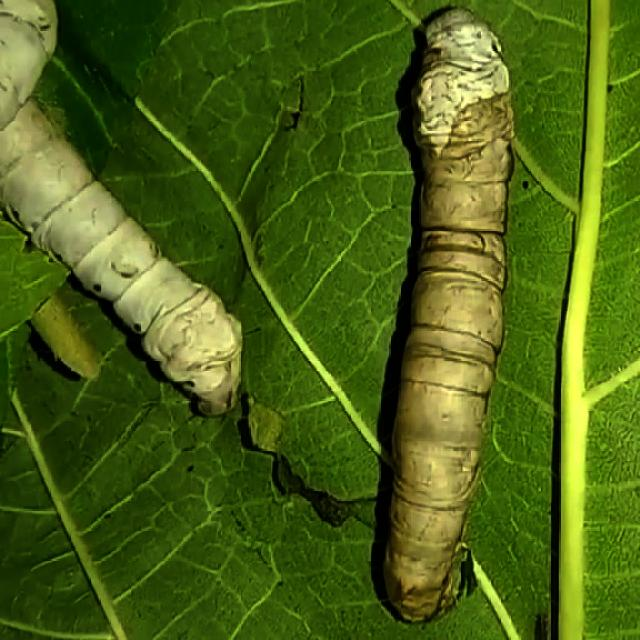Grasserie: (341, 10, 531, 625)
